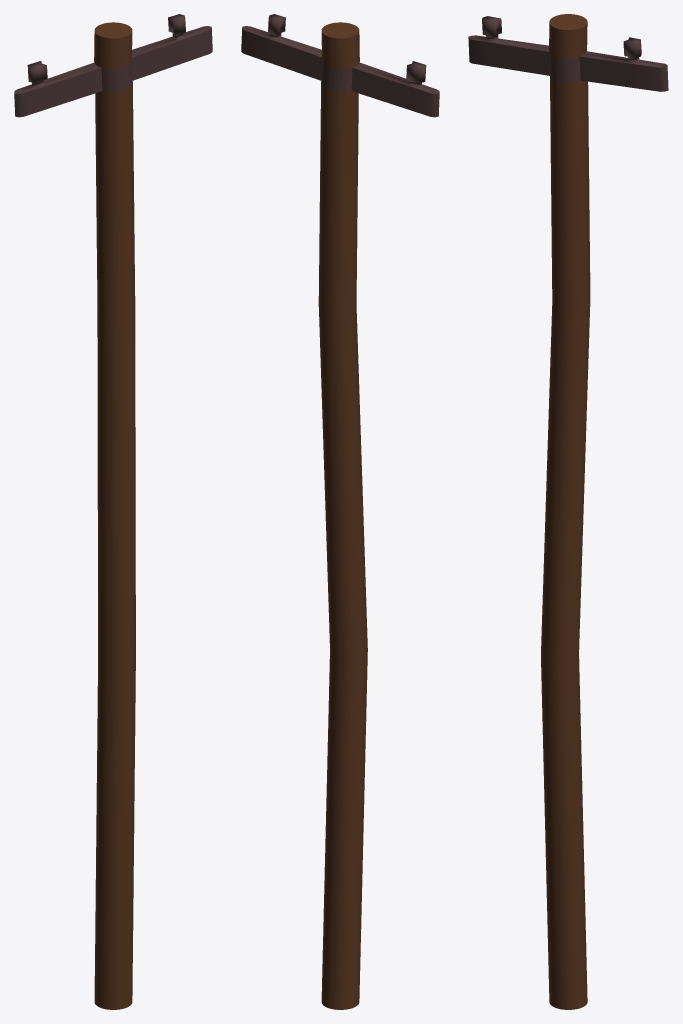
File: SmallPost_Base01.glb
3 views of the same model, side by side, from view 1: azimuth 30°, elevation 25°; view 2: azimuth 150°, elevation 25°; view 3: azimuth 330°, elevation 25° (orthographic).
Parts seen in each view (by area): view 1: SmallPost; view 2: SmallPost; view 3: SmallPost.
Boxes of the visible parts, x1=… form: SmallPost: x1=14, y1=14, x2=212, y2=1009; SmallPost: x1=241, y1=14, x2=439, y2=1009; SmallPost: x1=468, y1=14, x2=668, y2=1009.
Bounding box in the file's own units: 0.2754 × 1.29 × 0.06.
